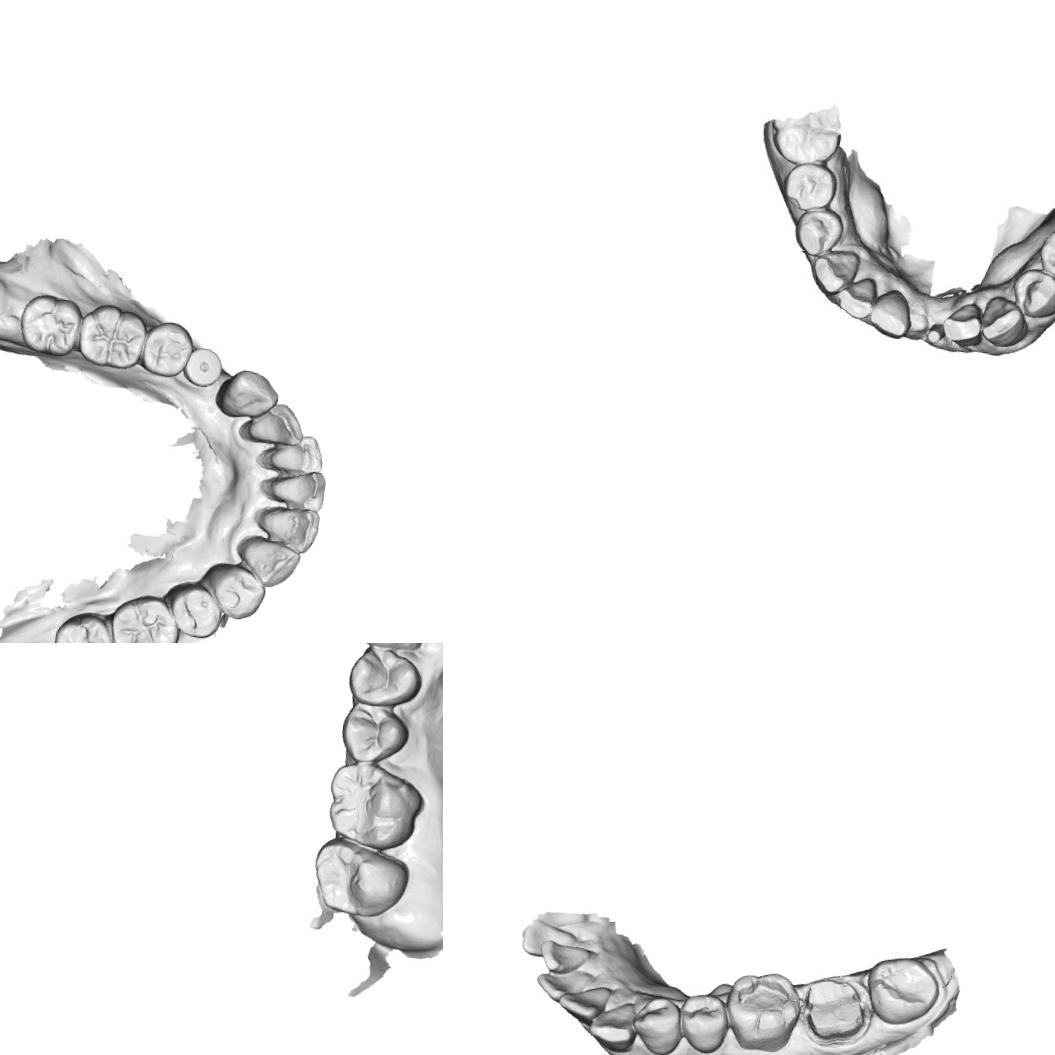abutment: (922, 318, 947, 349)
canine: (228, 530, 305, 594), (212, 364, 282, 424), (583, 994, 643, 1054), (980, 294, 1032, 350), (808, 246, 862, 298)
crown: (796, 967, 875, 1049)
implant: (178, 342, 224, 390)
incisor: (249, 497, 324, 557), (255, 425, 329, 480), (242, 396, 308, 455), (258, 464, 330, 512), (532, 962, 599, 1008), (829, 270, 883, 326), (533, 935, 595, 982), (516, 915, 576, 962), (556, 979, 613, 1026), (864, 288, 913, 342), (940, 298, 988, 351)
molar: (321, 756, 430, 857), (306, 832, 414, 925), (718, 964, 805, 1055), (862, 949, 945, 1035), (74, 294, 150, 372), (14, 286, 88, 361), (766, 99, 844, 170), (99, 589, 187, 643), (47, 606, 121, 643)
premolar: (342, 643, 426, 714), (336, 692, 412, 770), (158, 576, 231, 643), (200, 559, 270, 625), (672, 987, 735, 1055), (627, 990, 689, 1055), (138, 314, 196, 382), (782, 158, 840, 216), (790, 207, 846, 260), (1008, 264, 1055, 323), (1033, 222, 1055, 284)
